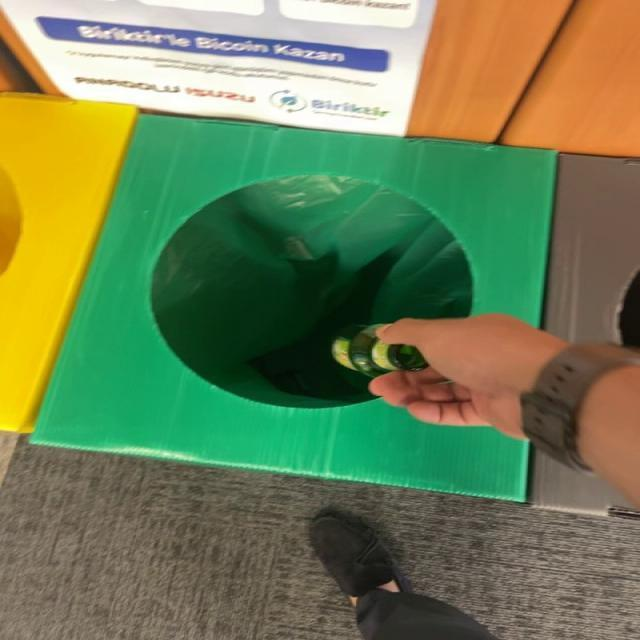Glass: (333, 324, 428, 378)
